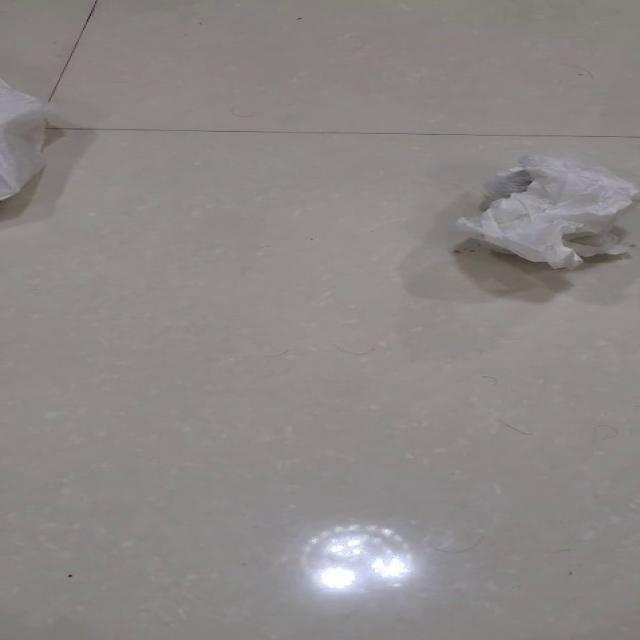plastic: (456, 153, 638, 269), (0, 78, 48, 201)
